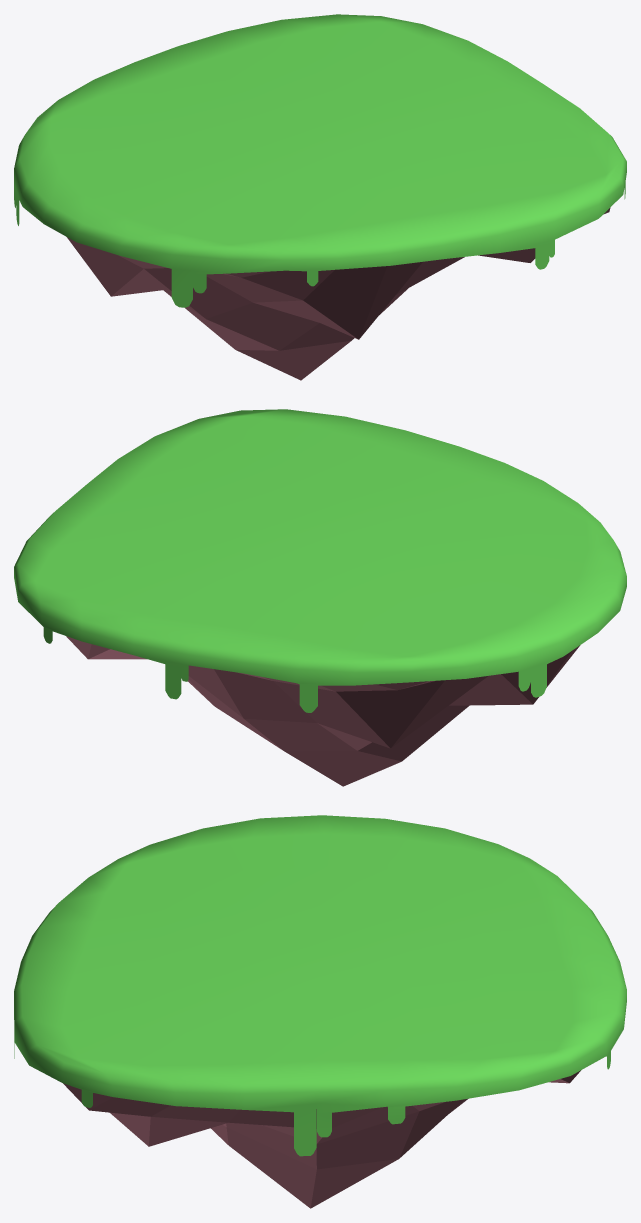
The model's file is Island.fbx.
3 renders of one model, top to bottom at view 1: azimuth 30°, elevation 25°; view 2: azimuth 150°, elevation 25°; view 3: azimuth 270°, elevation 25°, orthographic. The views are drawn at different scales.
Visible parts, largest first — view 1: Circle.001, Circle; view 2: Circle.001, Circle; view 3: Circle.001, Circle.
Boxes of the visible parts, bbox=[...] form: Circle.001: bbox=[14, 14, 626, 307]; Circle: bbox=[67, 207, 610, 380]; Circle.001: bbox=[14, 409, 626, 712]; Circle: bbox=[66, 636, 580, 786]; Circle.001: bbox=[14, 815, 626, 1156]; Circle: bbox=[63, 1070, 580, 1208].
Bounding box in the file's own units: 1443 × 650 × 1350.
